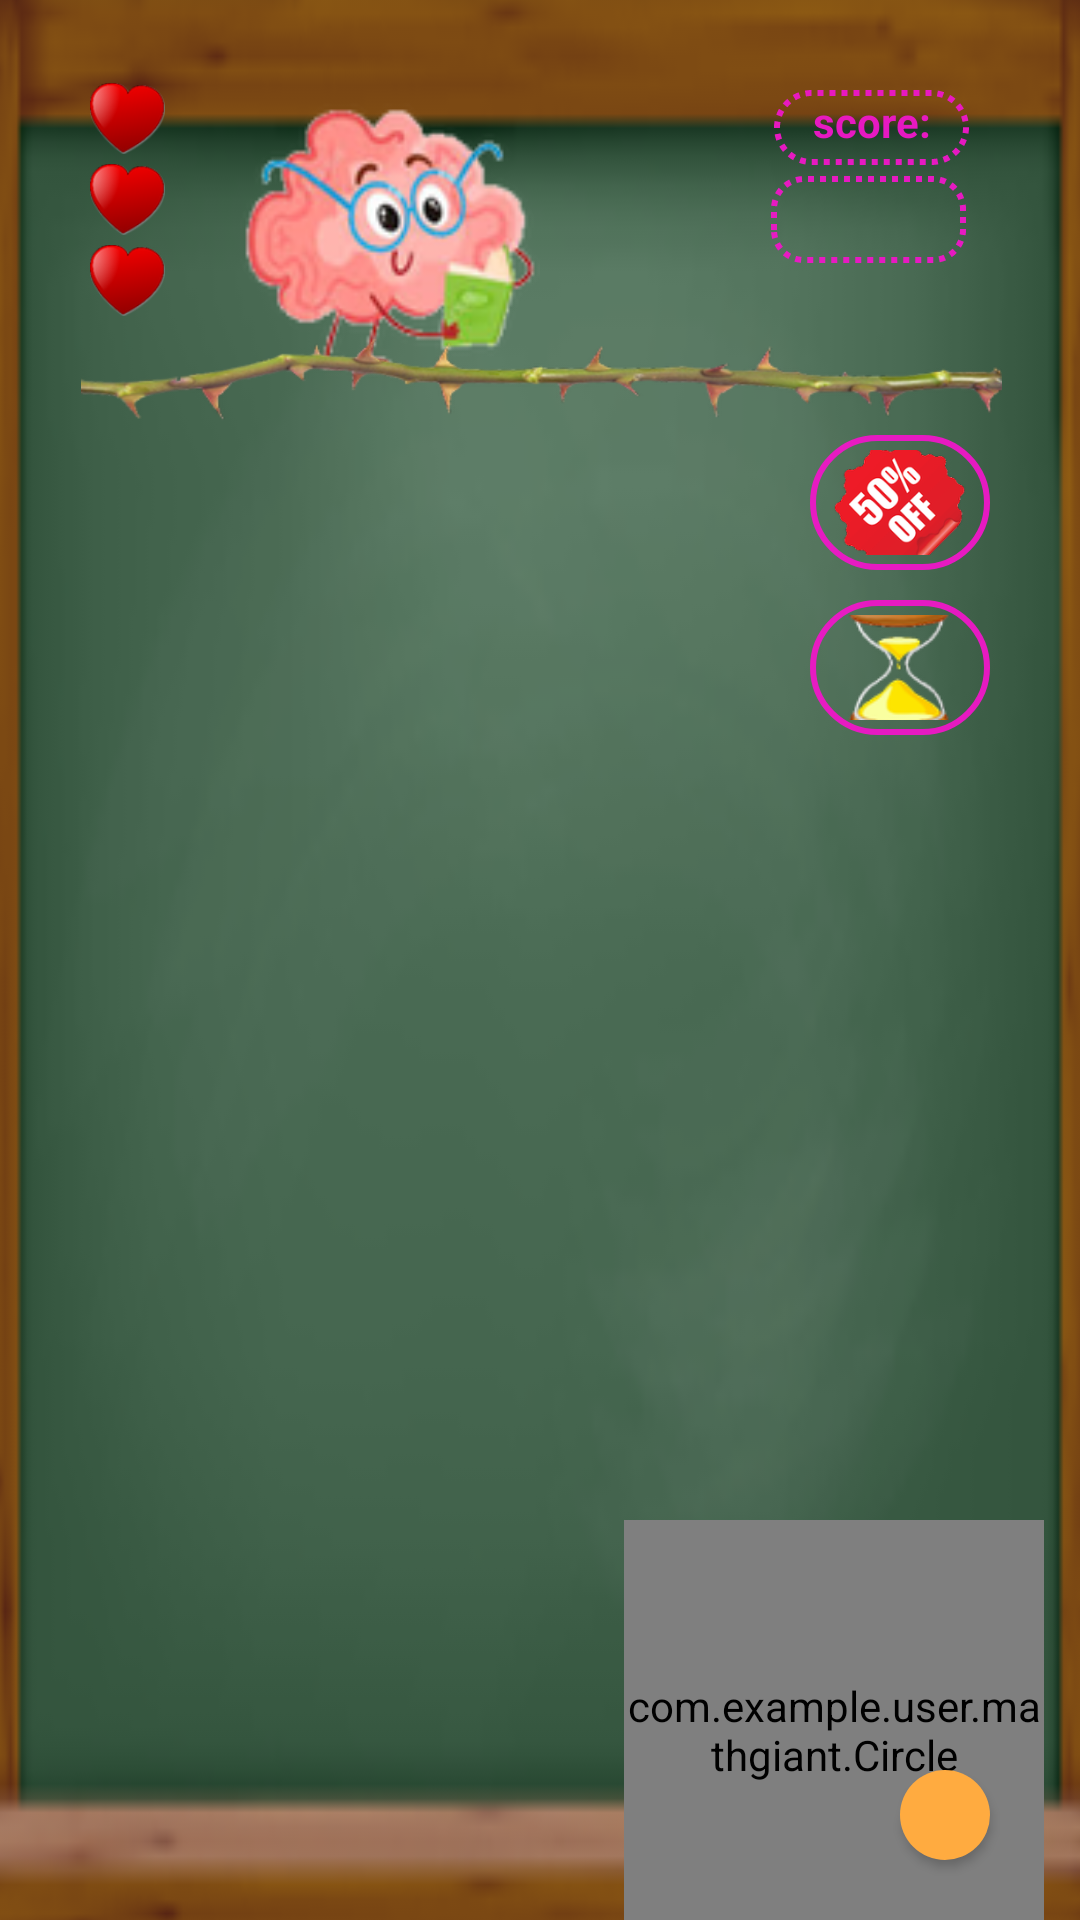

Icon click points for this 1080px x 1920px phone screenshot, format (x,y):
heart: (127,118), (127,199), (127,280)
hourglass: (899,667)
